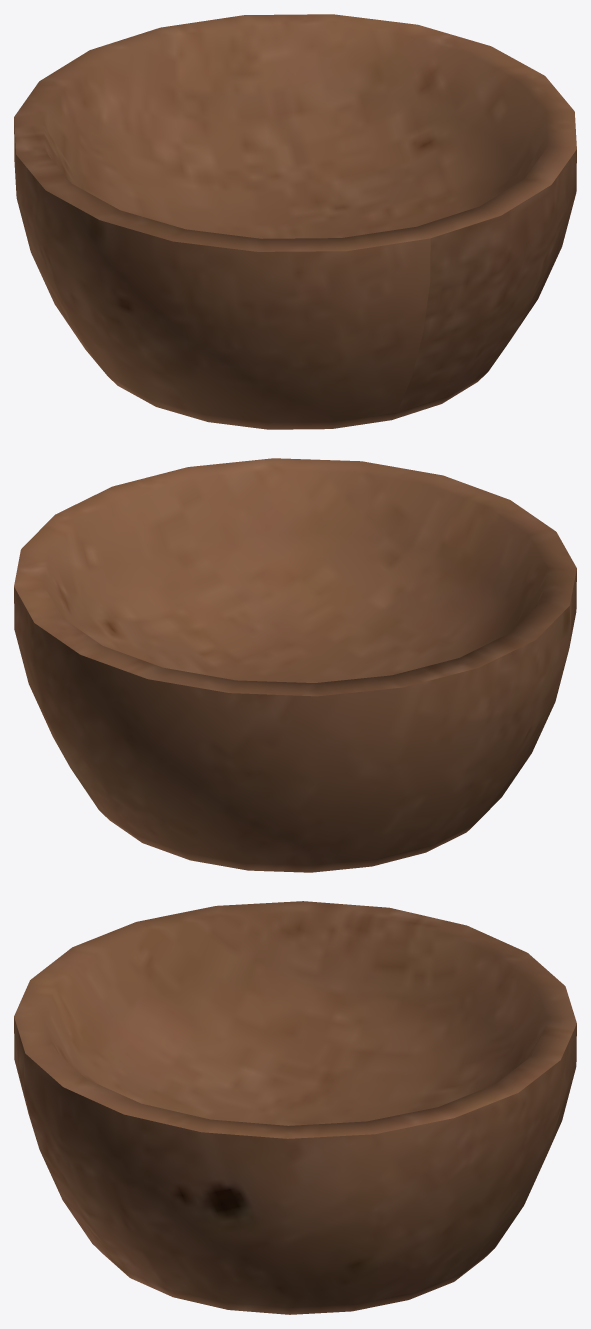
File: Bowl_02.glb
3 views of the same model, one above another, from view 1: azimuth 30°, elevation 25°; view 2: azimuth 150°, elevation 25°; view 3: azimuth 270°, elevation 25° (orthographic).
Parts seen in each view (by area): view 1: SM_Bowl_02; view 2: SM_Bowl_02; view 3: SM_Bowl_02.
Part boxes in pixels (x1,y1,x2,y2): SM_Bowl_02: [14, 14, 576, 429]; SM_Bowl_02: [14, 458, 576, 872]; SM_Bowl_02: [14, 901, 576, 1314].
Bounding box in the file's own units: 0.2009 × 0.0861 × 0.2009.
Materials: 1 (1 with a texture image).
